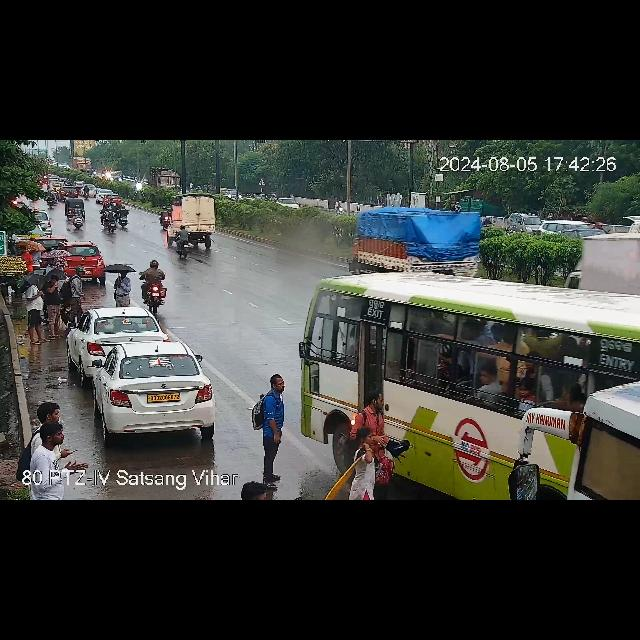bus: (304, 264, 640, 482), (522, 394, 640, 500)
car: (86, 345, 216, 439), (71, 307, 161, 367), (60, 242, 106, 280), (537, 219, 587, 239), (504, 210, 542, 236), (26, 210, 52, 234), (64, 198, 86, 218), (276, 196, 300, 210), (59, 186, 80, 198), (103, 195, 121, 208), (96, 189, 114, 201), (82, 185, 98, 195)
motorcycle: (140, 257, 170, 311), (178, 225, 190, 262), (118, 205, 130, 232), (72, 206, 84, 230), (107, 206, 117, 234), (158, 206, 170, 228), (44, 192, 56, 210), (336, 200, 344, 218), (82, 185, 90, 199)
person: (250, 370, 290, 478), (23, 400, 71, 474), (355, 392, 393, 482), (346, 428, 378, 499), (22, 280, 48, 348), (46, 274, 66, 338), (114, 269, 132, 307), (22, 242, 42, 274), (72, 263, 84, 305)
truck: (351, 206, 487, 274), (564, 241, 640, 297), (157, 190, 219, 256), (146, 168, 182, 190), (72, 157, 92, 173)
